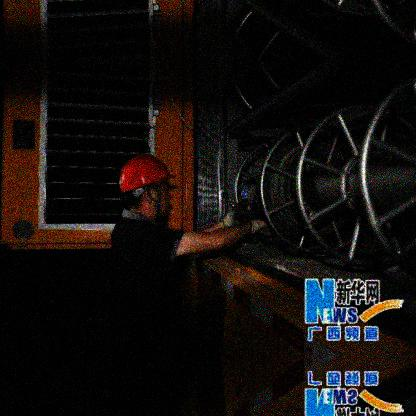helmet: (116, 156, 178, 224)
